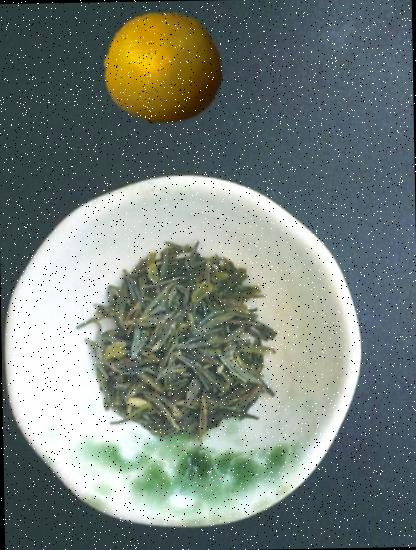Grapefruit: (102, 6, 224, 128)
